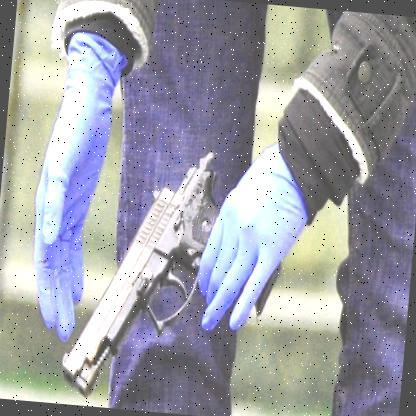rifle: (50, 139, 285, 411)
